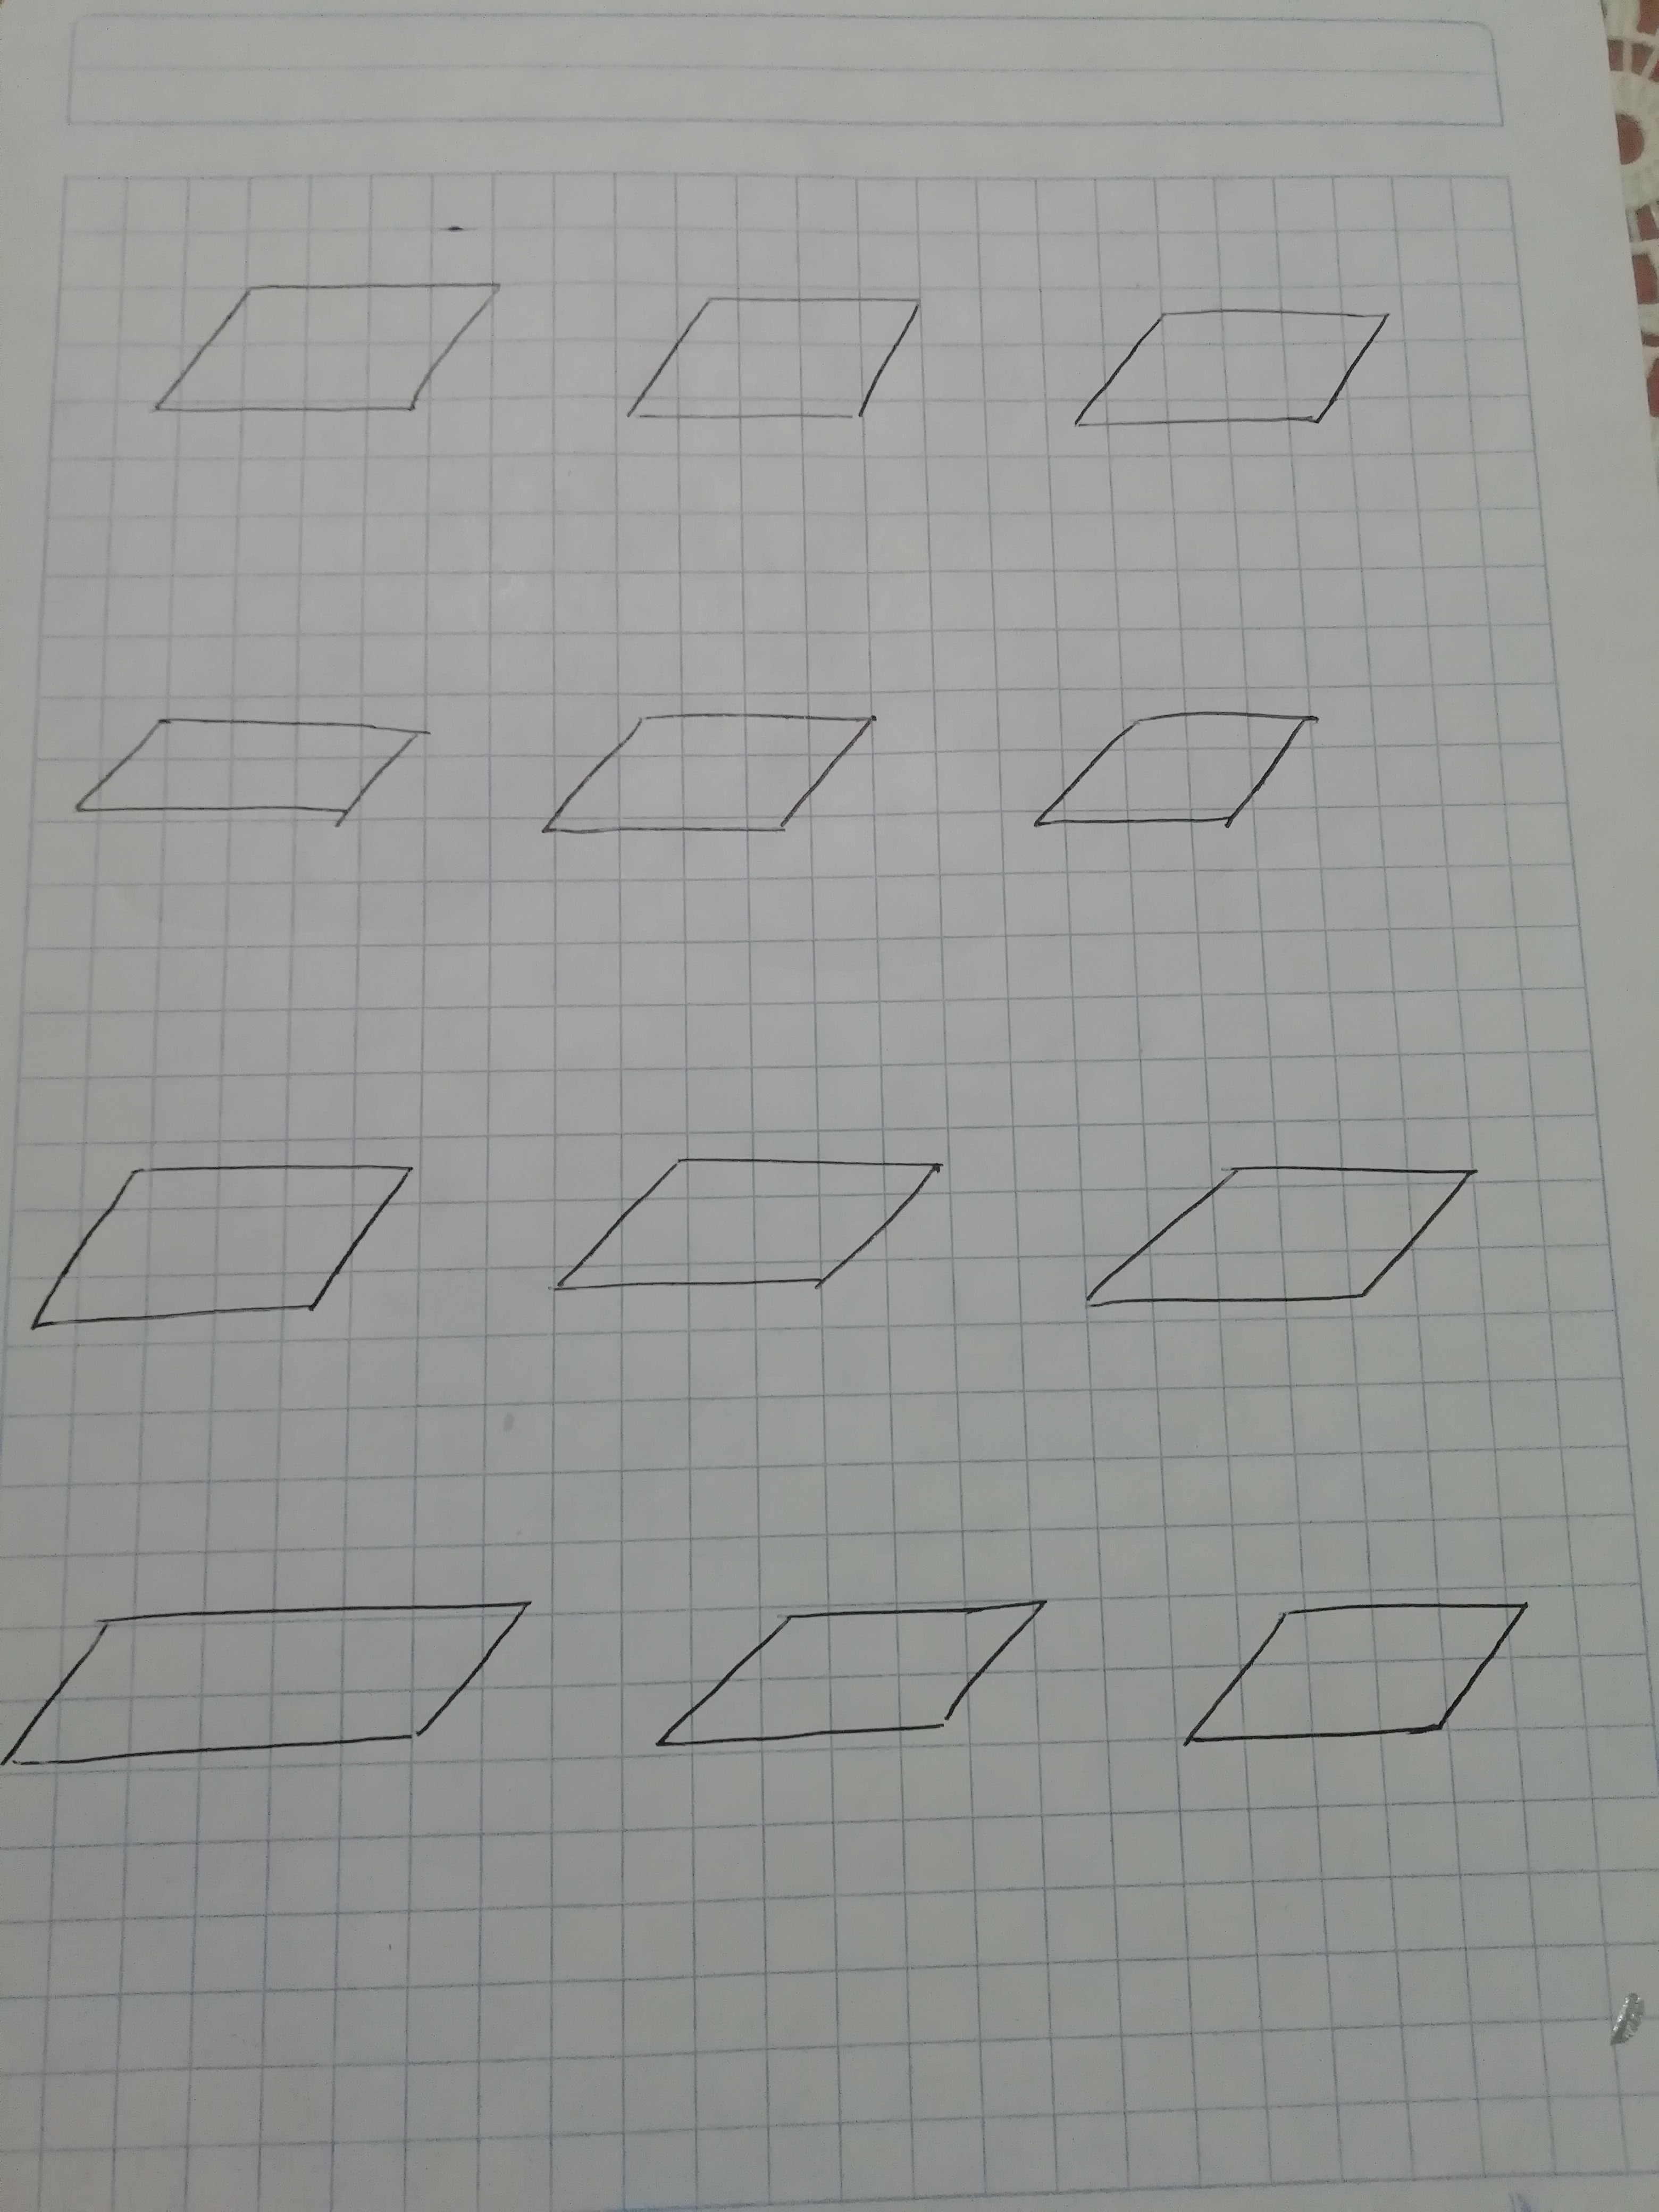scan: (2, 1576, 554, 1836), (1054, 1123, 1506, 1364), (519, 1116, 983, 1343), (87, 237, 537, 470), (12, 1130, 437, 1372), (615, 1575, 1086, 1784), (1143, 1564, 1568, 1794), (495, 678, 934, 873), (1006, 671, 1338, 921), (587, 251, 948, 475), (59, 695, 458, 869), (1026, 287, 1427, 460)
